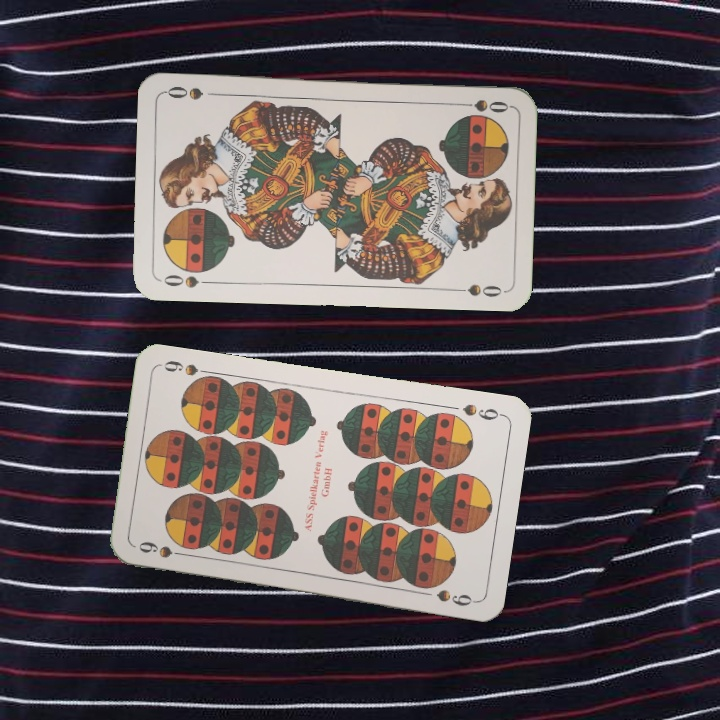S9: (134, 537, 192, 560), (458, 400, 506, 423)
SO: (452, 95, 511, 116), (157, 270, 216, 290)
